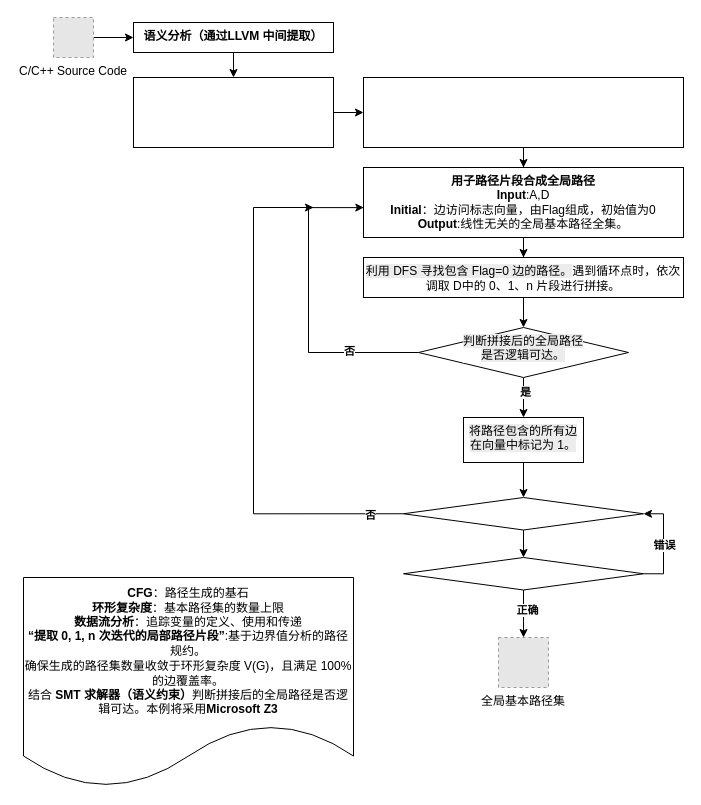
The diagram is 701 pixels wide and 805 high, and some of its shapes have lost their labels. Grey dashed boxes stand in for pictures. The centre of each missing label's shape, as x and y in pixels:
使用 语义约束 进行 路径可行性验证: point (523, 573)
子路径片段提取 Input:C Output: D.提取循环体内部的 0/1/ n 次迭代对应的 局部路径片段: point (523, 112)
检查是否所有边均已访问: point (523, 513)
静态分析 A. 构建全局CFG B. 计算程序的环形 复杂度 V(G) C.数据流分析: point (233, 112)
